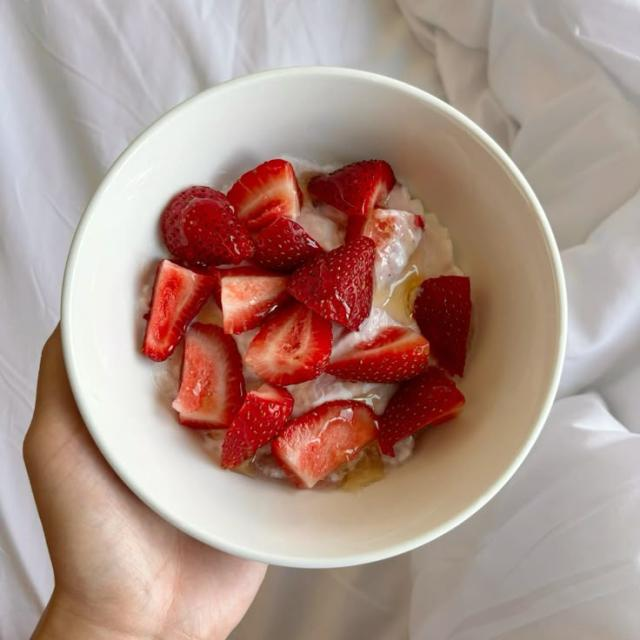strawberry sliced: (272, 400, 378, 487), (289, 237, 375, 330), (379, 367, 465, 456), (173, 323, 245, 428), (142, 260, 215, 360), (245, 302, 332, 385), (161, 187, 253, 265), (221, 384, 293, 468), (346, 209, 424, 284), (414, 276, 471, 375), (327, 327, 429, 382), (227, 159, 302, 231), (179, 194, 253, 265), (308, 160, 395, 215), (219, 267, 289, 333), (160, 186, 219, 257), (254, 217, 322, 271)
